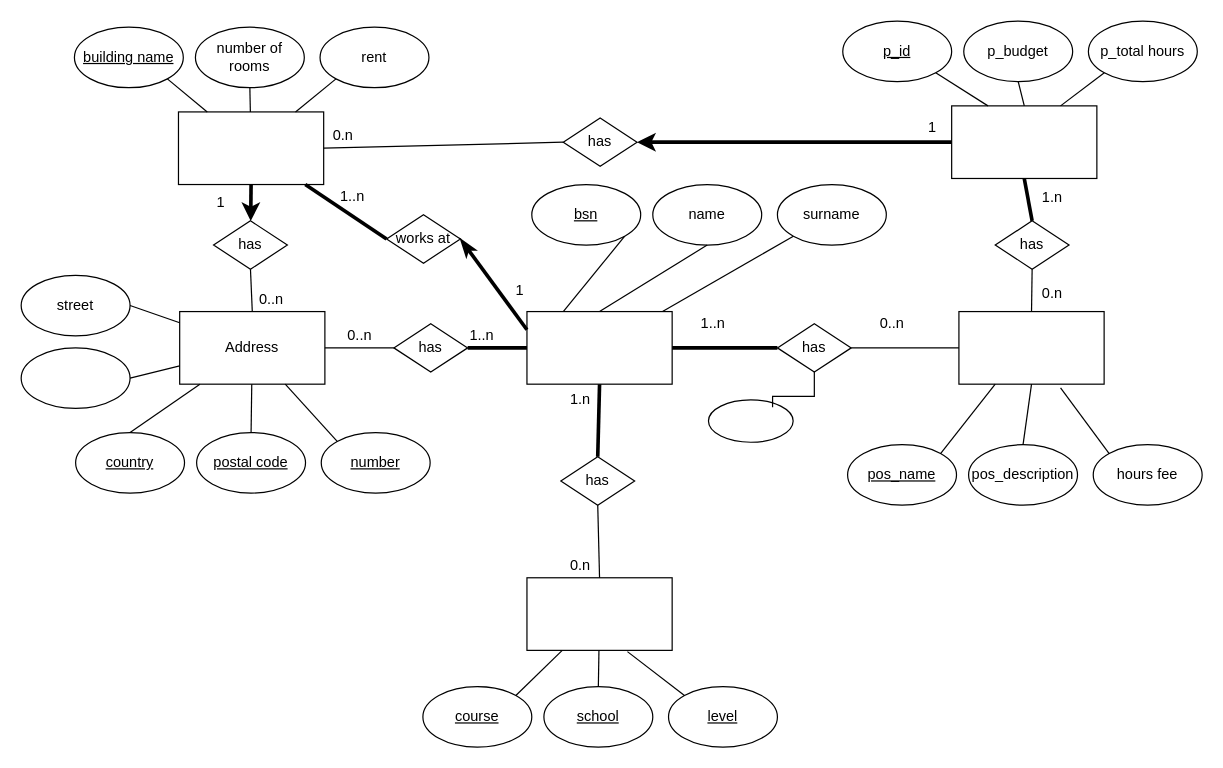
Image size: 1223x768. Some labels were removed from this diagram. Each missing label, with the centre of its shape:
"city" goes at (75,377).
"Degree" goes at (599,613).
"Employee" goes at (599,347).
"Headquarters" goes at (250,148).
"hours" goes at (750,420).
"Position" goes at (1031,347).
"Project" goes at (1023,141).
